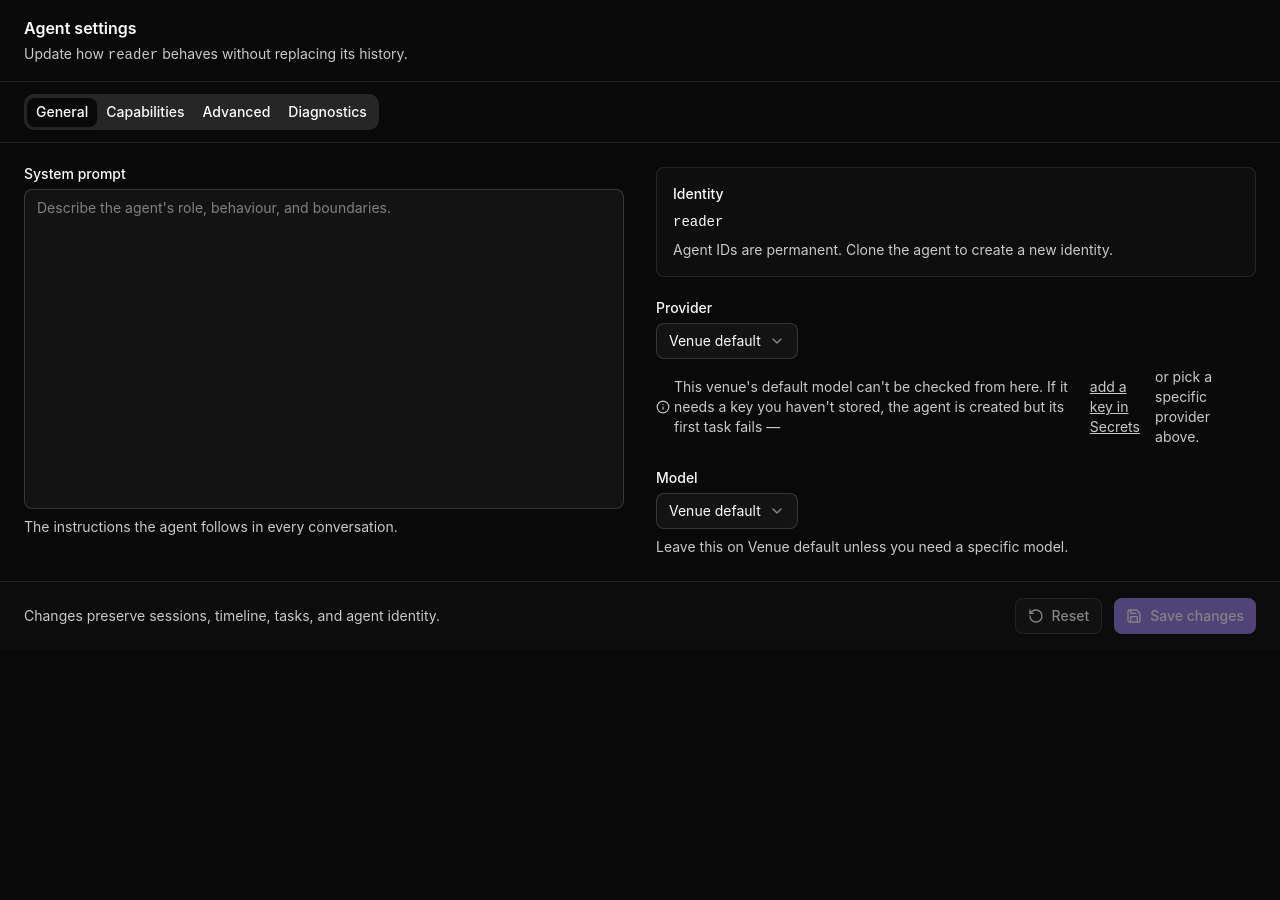
AgentSettings — inject user memory into context › reflects an existing memory context entry as checked
The image size is (1280, 900).
Click the tab "Capabilities".
click(145, 112)  # box [97,98,194,126]
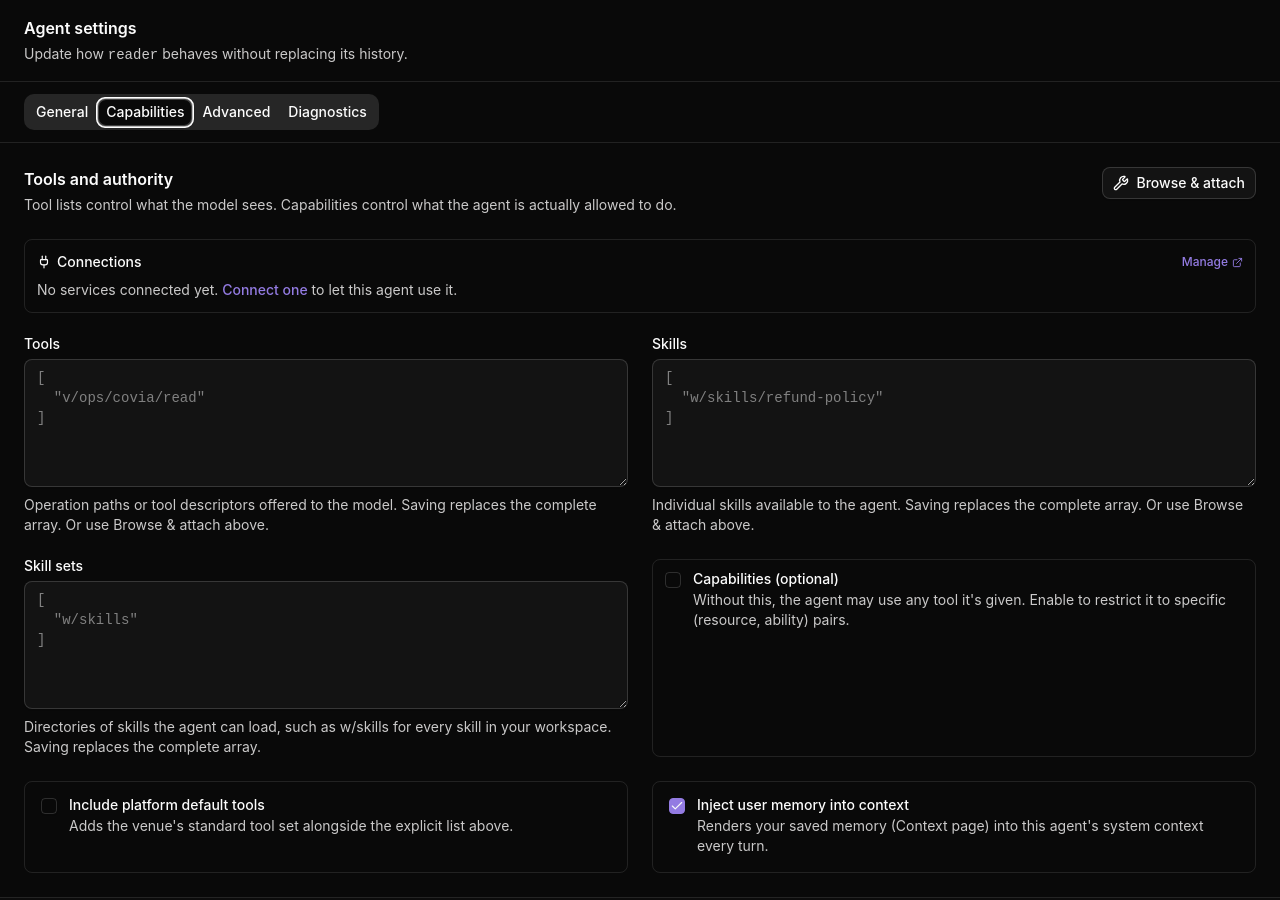
Result: the checkbox named "inject user memory into context" next to "Inject user memory into context" is checked at [669,798,685,814]
